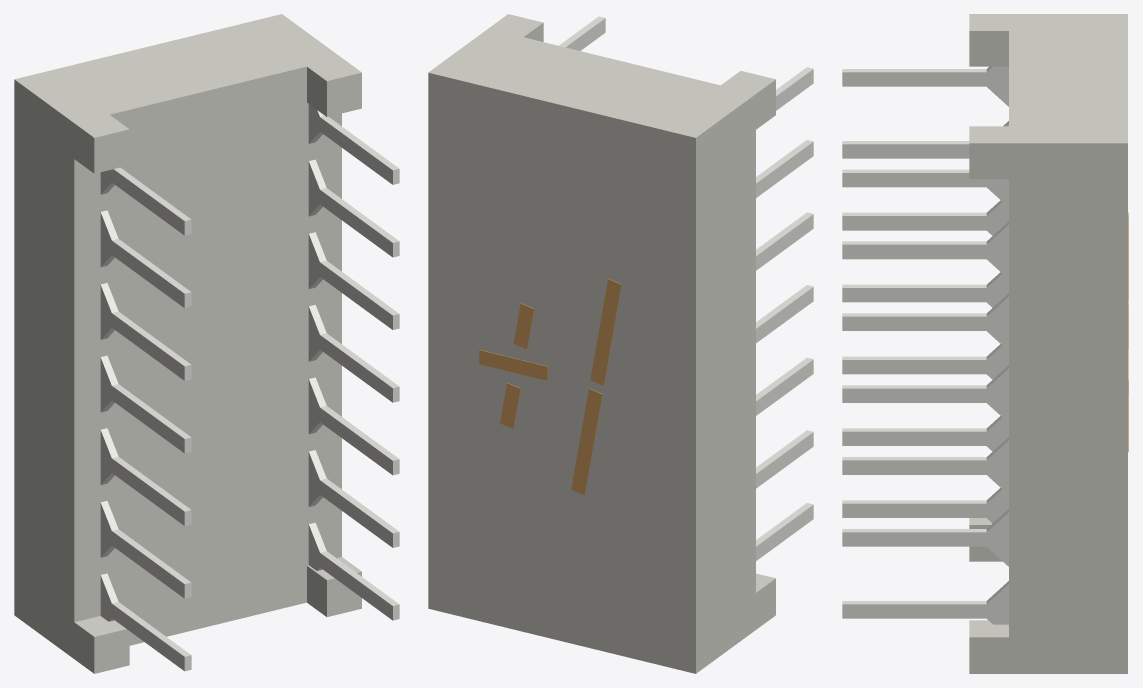
Rendered from MAN3630A.glb.
3 views of the same model, side by side, from view 1: azimuth 30°, elevation 25°; view 2: azimuth 150°, elevation 25°; view 3: azimuth 270°, elevation 25° (orthographic).
Visible parts, largest first — view 1: Shape_IndexedFaceSet.010, Shape_IndexedFaceSet.006, Shape_IndexedFaceSet, Shape_IndexedFaceSet.012, Shape_IndexedFaceSet.038, Shape_IndexedFaceSet.003, Shape_IndexedFaceSet.042, Shape_IndexedFaceSet.014, Shape_IndexedFaceSet.005, Shape_IndexedFaceSet.001, Shape_IndexedFaceSet.164, Shape_IndexedFaceSet.167 (+16 smaller); view 2: Shape_IndexedFaceSet.007, Shape_IndexedFaceSet.006, Shape_IndexedFaceSet, Shape_IndexedFaceSet.104, Shape_IndexedFaceSet.105, Shape_IndexedFaceSet.101, Shape_IndexedFaceSet.175, Shape_IndexedFaceSet.164, Shape_IndexedFaceSet.167, Shape_IndexedFaceSet.172, Shape_IndexedFaceSet.183, Shape_IndexedFaceSet.181 (+3 smaller); view 3: Shape_IndexedFaceSet.008, Shape_IndexedFaceSet, Shape_IndexedFaceSet.210, Shape_IndexedFaceSet.213, Shape_IndexedFaceSet.166, Shape_IndexedFaceSet.179, Shape_IndexedFaceSet.201, Shape_IndexedFaceSet.174, Shape_IndexedFaceSet.177, Shape_IndexedFaceSet.185, Shape_IndexedFaceSet.197, Shape_IndexedFaceSet.161 (+21 smaller).
Part boxes in pixels (box(x1,y1,x2,y2)): Shape_IndexedFaceSet.010: box(109, 102, 306, 608); Shape_IndexedFaceSet.006: box(14, 79, 94, 673); Shape_IndexedFaceSet: box(15, 14, 361, 137); Shape_IndexedFaceSet.012: box(74, 159, 109, 622); Shape_IndexedFaceSet.038: box(307, 103, 341, 565); Shape_IndexedFaceSet.003: box(110, 66, 306, 145); Shape_IndexedFaceSet.042: box(129, 565, 306, 645); Shape_IndexedFaceSet.014: box(94, 629, 129, 673); Shape_IndexedFaceSet.005: box(94, 129, 129, 173); Shape_IndexedFaceSet.001: box(327, 72, 361, 116); Shape_IndexedFaceSet.164: box(112, 604, 184, 670); Shape_IndexedFaceSet.167: box(112, 241, 184, 307); Shape_IndexedFaceSet.007: box(428, 72, 695, 673); Shape_IndexedFaceSet.006: box(696, 79, 775, 673); Shape_IndexedFaceSet: box(428, 14, 775, 137); Shape_IndexedFaceSet.104: box(571, 388, 602, 495); Shape_IndexedFaceSet.105: box(590, 279, 621, 385); Shape_IndexedFaceSet.101: box(479, 350, 547, 380); Shape_IndexedFaceSet.175: box(756, 287, 813, 343); Shape_IndexedFaceSet.164: box(756, 505, 813, 560); Shape_IndexedFaceSet.167: box(756, 142, 813, 197); Shape_IndexedFaceSet.172: box(756, 214, 813, 270); Shape_IndexedFaceSet.183: box(756, 359, 813, 415); Shape_IndexedFaceSet.181: box(756, 432, 813, 488); Shape_IndexedFaceSet.008: box(969, 143, 1127, 673); Shape_IndexedFaceSet: box(969, 14, 1127, 143); Shape_IndexedFaceSet.210: box(842, 244, 986, 259); Shape_IndexedFaceSet.213: box(842, 316, 986, 330); Shape_IndexedFaceSet.166: box(842, 503, 985, 517); Shape_IndexedFaceSet.179: box(842, 431, 986, 445); Shape_IndexedFaceSet.201: box(842, 388, 985, 402); Shape_IndexedFaceSet.174: box(842, 216, 986, 230); Shape_IndexedFaceSet.177: box(842, 288, 986, 302); Shape_IndexedFaceSet.185: box(842, 360, 985, 374); Shape_IndexedFaceSet.197: box(842, 460, 986, 474); Shape_IndexedFaceSet.161: box(842, 72, 986, 86).
Bounding box in the file's own units: 3.86 × 7.38 × 3.61.
